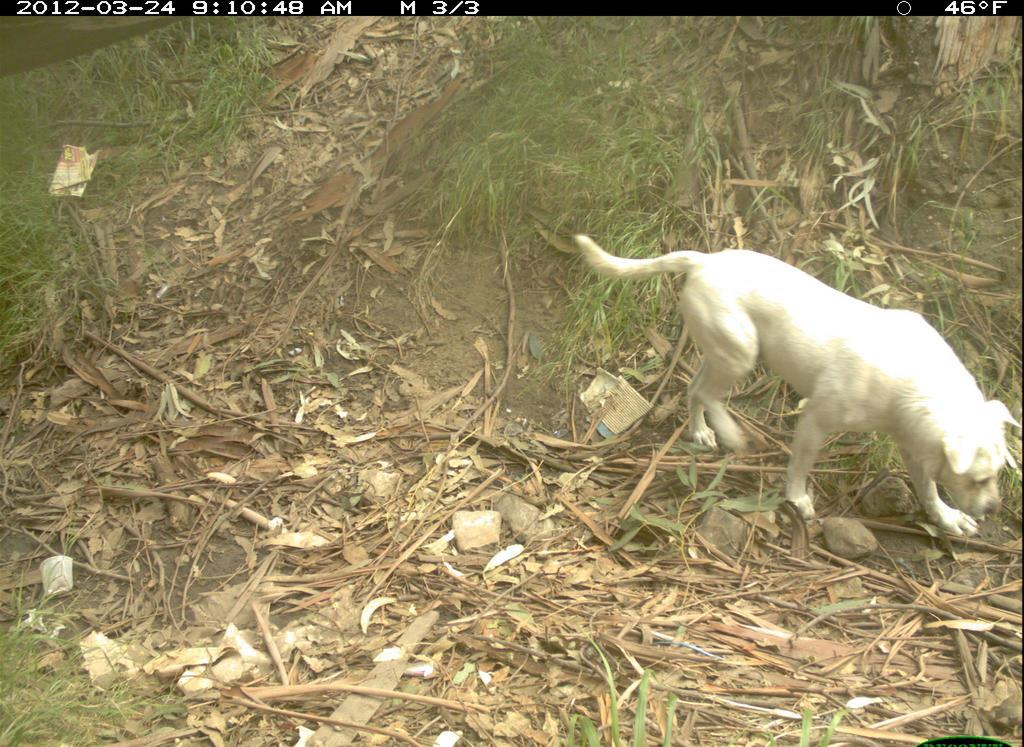dog: (561, 205, 1023, 564)
